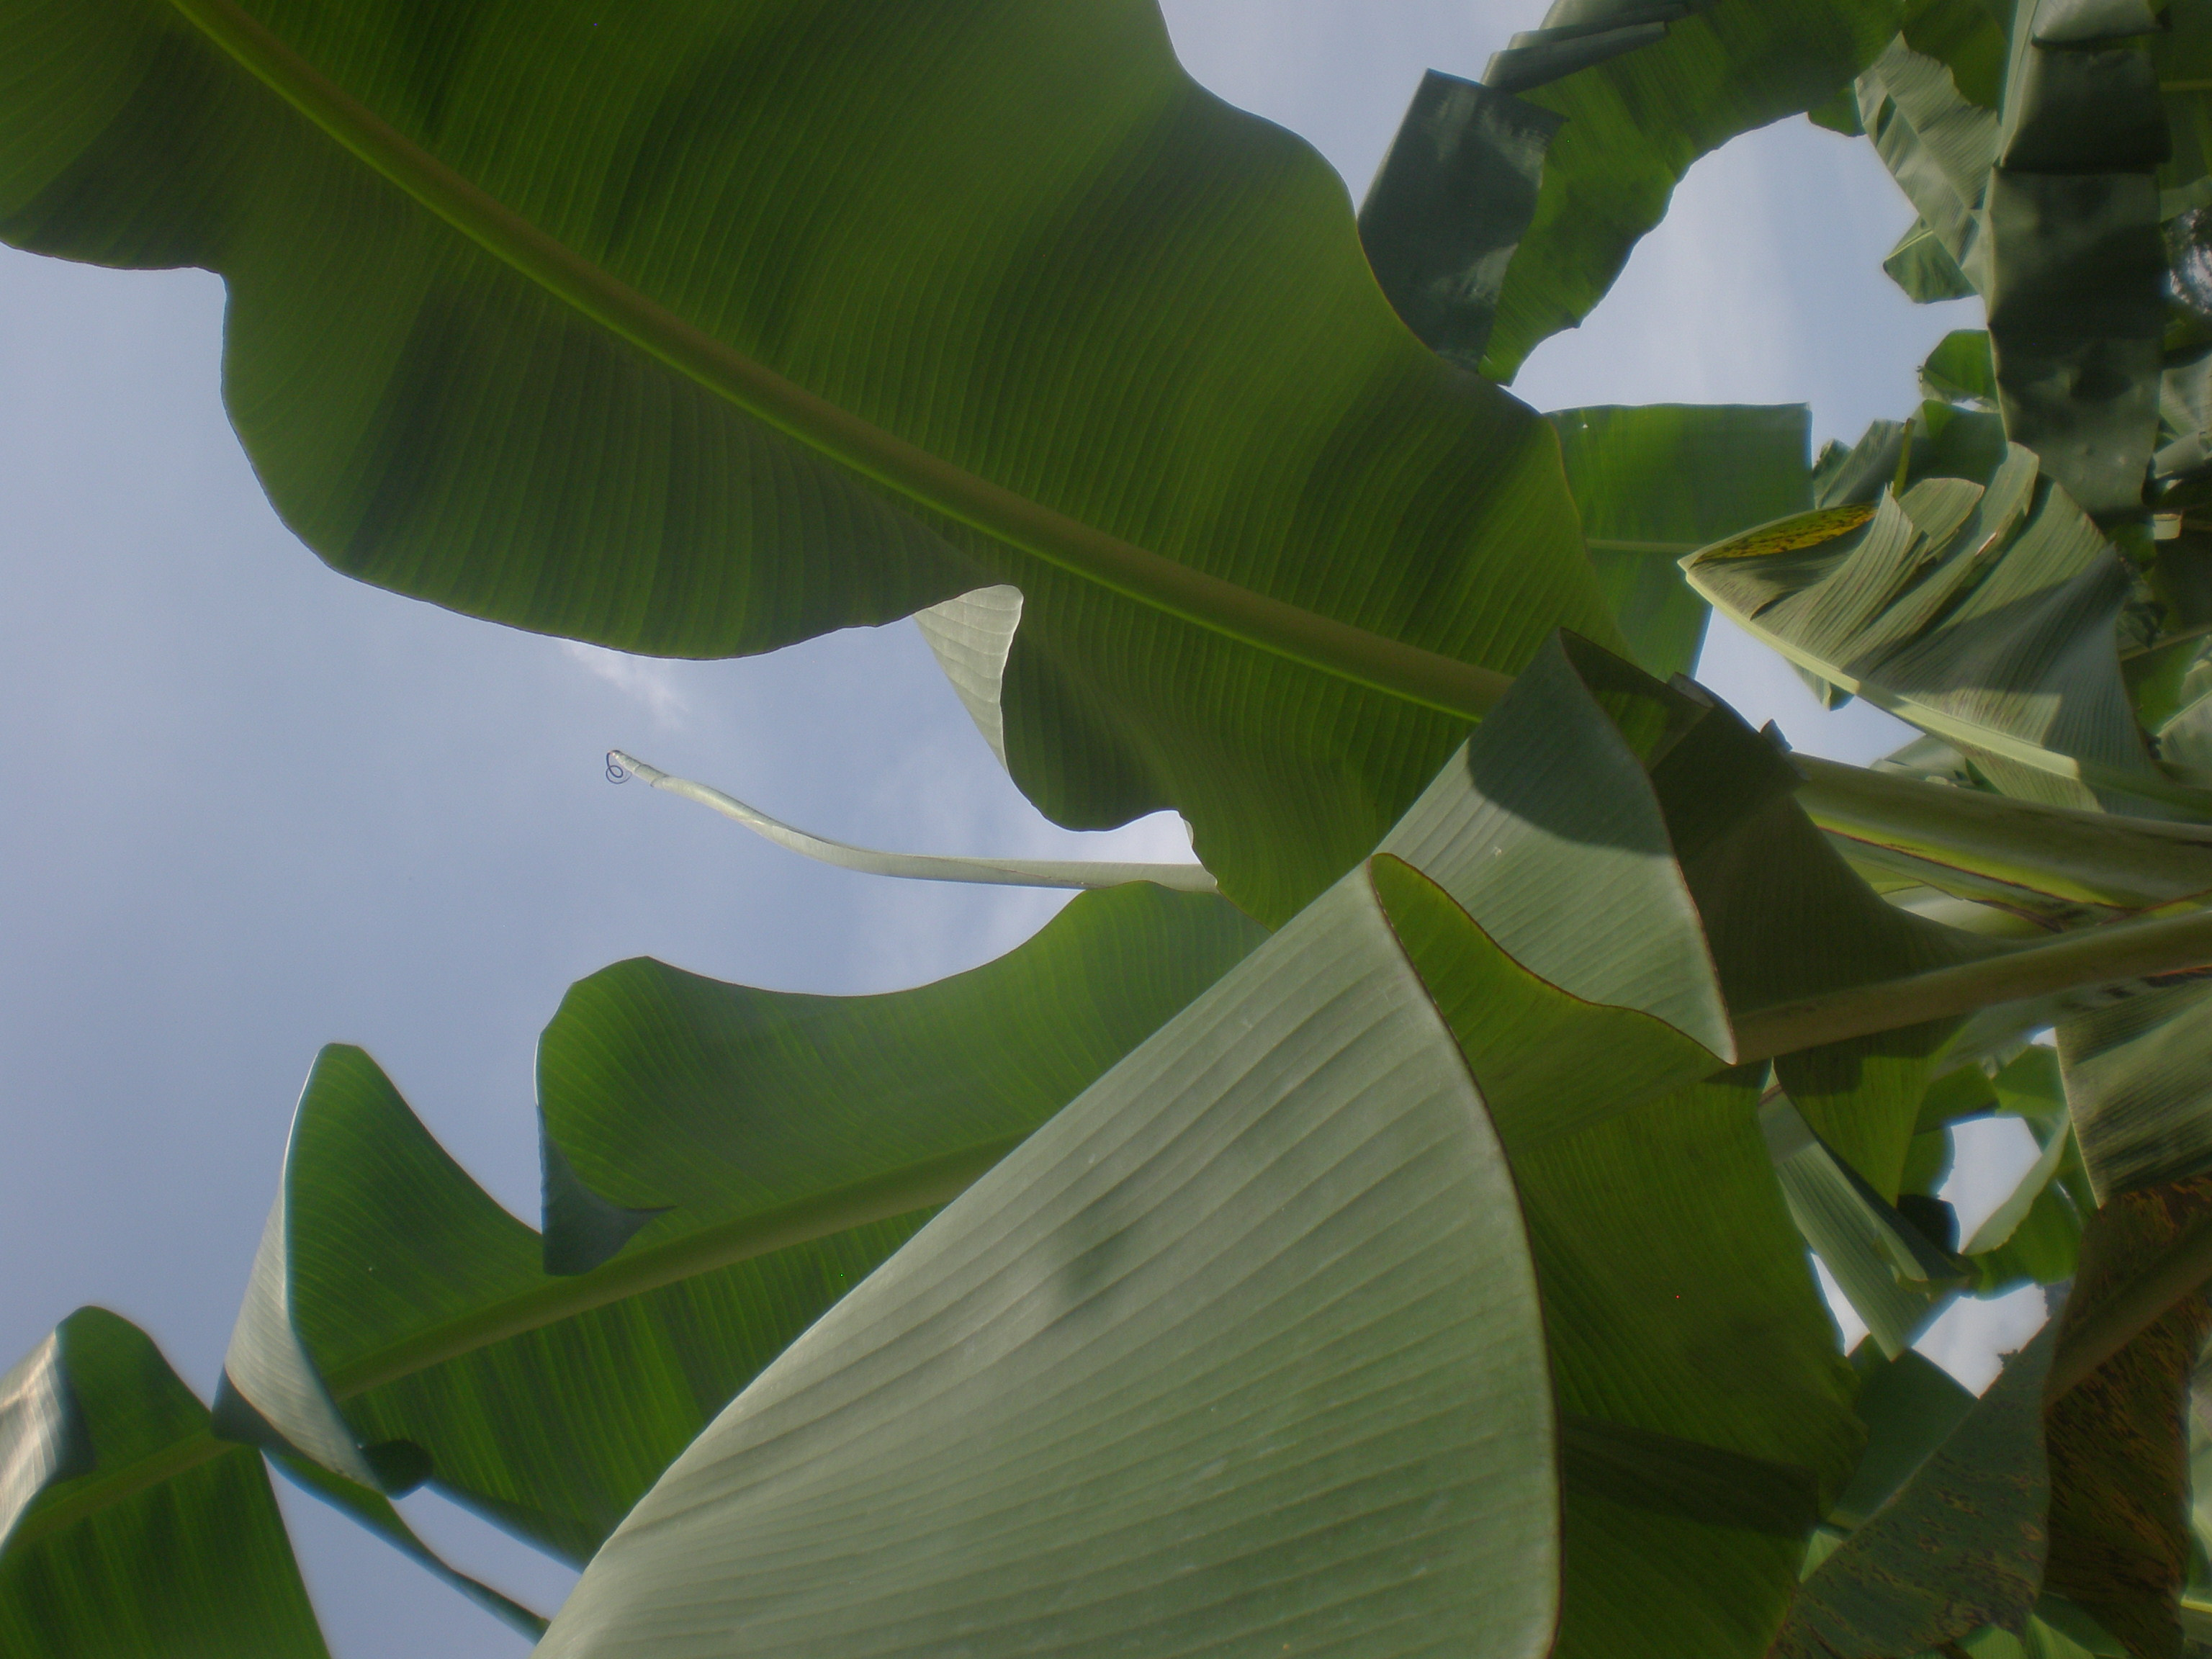candleleafs: (594, 742, 1197, 903)
